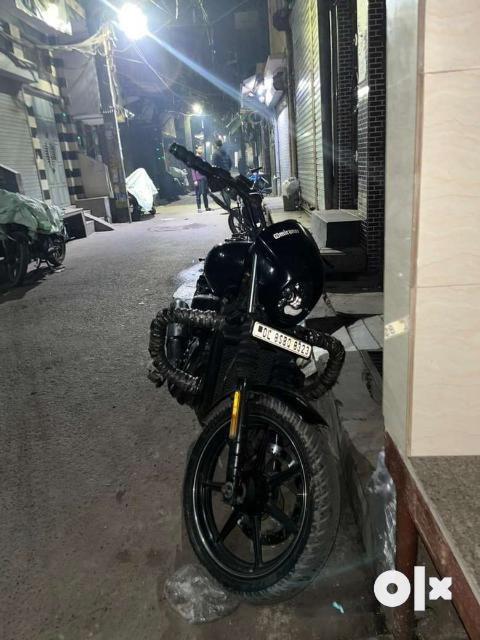Indian_Number_Plate: (252, 320, 313, 359)
